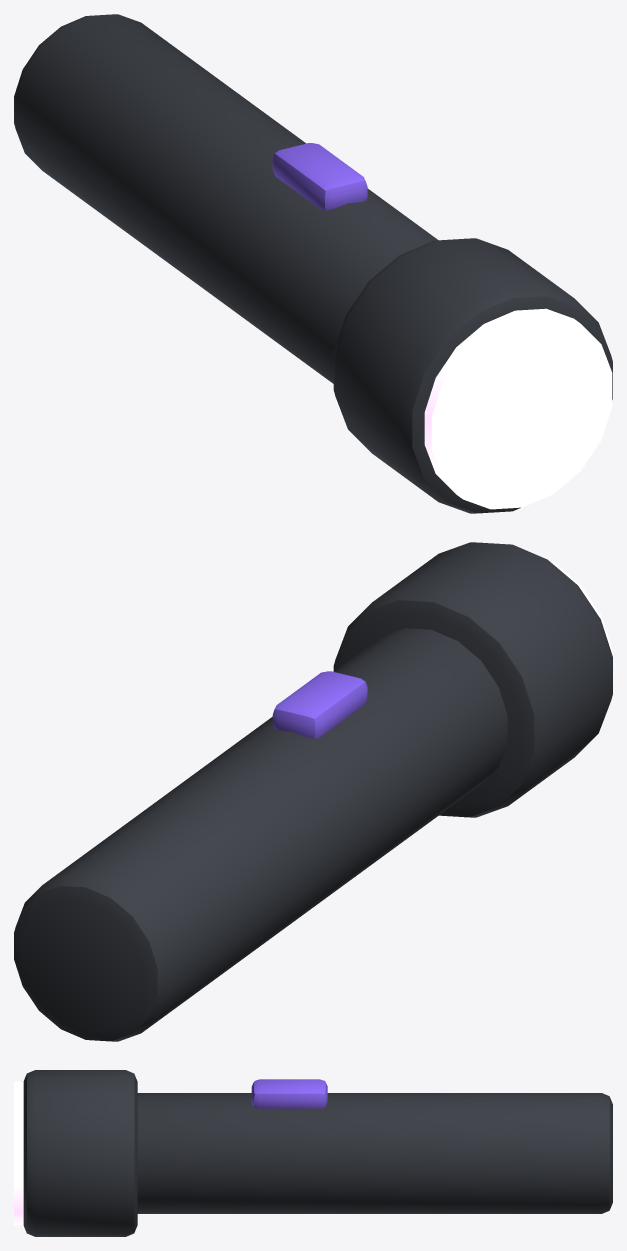
Rendered from uv_torch.fbx.
The picture shows the model from 3 angles, top to bottom: view 1: azimuth 30°, elevation 25°; view 2: azimuth 150°, elevation 25°; view 3: azimuth 270°, elevation 25°; orthographic projection. The views are drawn at different scales.
Parts seen in each view (by area): view 1: uv_torch; view 2: uv_torch; view 3: uv_torch.
Boxes of the visible parts, <box> form: uv_torch: <box>14,14,612,513</box>; uv_torch: <box>14,542,612,1041</box>; uv_torch: <box>14,1070,612,1236</box>.
Size of the model in its own units: 0.0433 by 0.044 by 0.1575.
